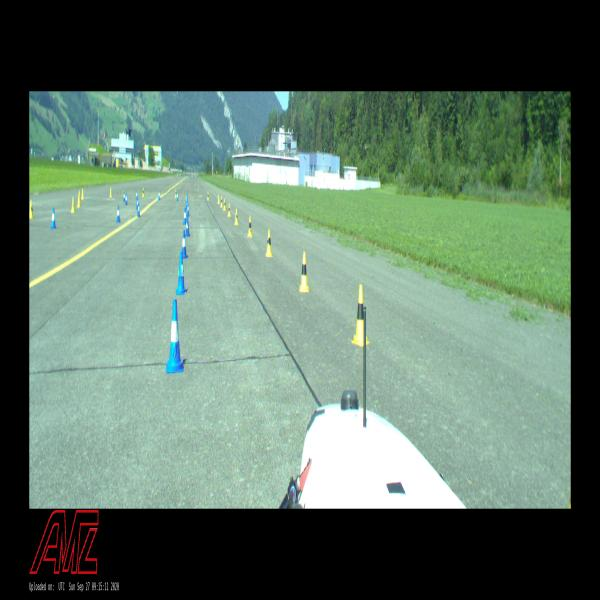blue_cone: (166, 300, 184, 372), (176, 253, 186, 294), (182, 230, 187, 258), (51, 207, 56, 229), (186, 217, 190, 236), (116, 205, 120, 222), (137, 203, 140, 216), (184, 207, 186, 224), (158, 189, 161, 200), (187, 202, 189, 216), (125, 193, 127, 205), (123, 191, 125, 202), (136, 199, 138, 210), (136, 190, 138, 200), (176, 192, 178, 201), (186, 193, 187, 203)
yellow_cone: (351, 285, 369, 346), (299, 252, 309, 292), (266, 229, 273, 257), (248, 216, 252, 237), (29, 200, 33, 219), (71, 197, 75, 213), (234, 209, 238, 225), (77, 191, 81, 207), (228, 202, 231, 217), (220, 196, 223, 208), (109, 188, 112, 197), (224, 199, 226, 211), (82, 188, 84, 199), (218, 194, 220, 204), (207, 191, 209, 200), (142, 188, 144, 197), (175, 189, 177, 198)
